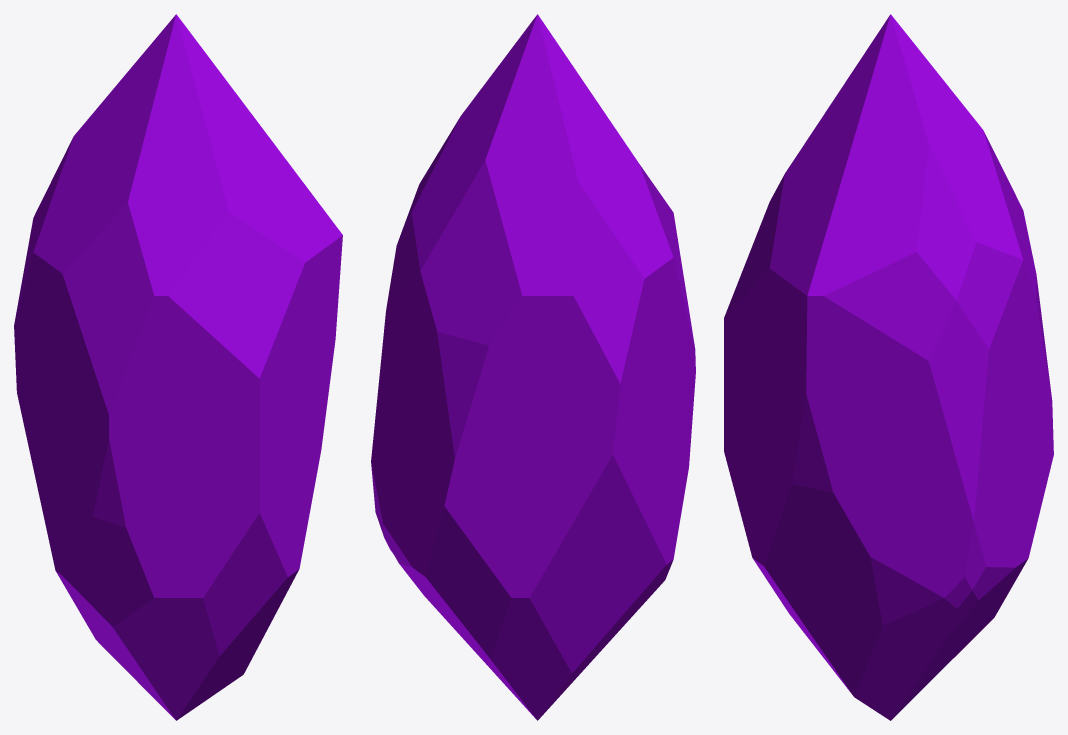
Rendered from kristal_03.fbx.
The picture shows the model from 3 angles, left to right: view 1: azimuth 30°, elevation 25°; view 2: azimuth 150°, elevation 25°; view 3: azimuth 270°, elevation 25°; orthographic projection.
Parts seen in each view (by area): view 1: kristal_03; view 2: kristal_03; view 3: kristal_03.
Part boxes in pixels (x1=…): kristal_03: x1=14, y1=14, x2=342, y2=720; kristal_03: x1=371, y1=14, x2=695, y2=720; kristal_03: x1=724, y1=14, x2=1053, y2=720.
Size of the model in its own units: 0.397 by 0.4538 by 1.07.
